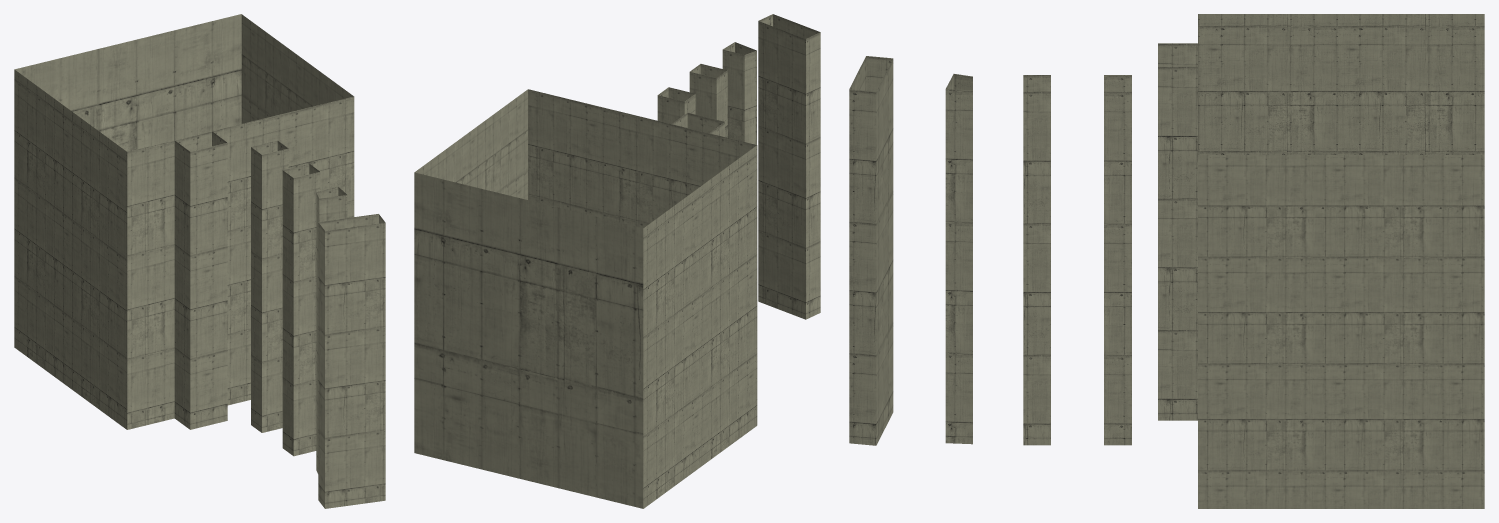
File: SM_NeoLD_00_Block_04.fbx
The picture shows the model from 3 angles, left to right: view 1: azimuth 30°, elevation 25°; view 2: azimuth 150°, elevation 25°; view 3: azimuth 270°, elevation 25°; orthographic projection. The views are drawn at different scales.
Visible parts, largest first — view 1: SM_NeoLD_00_Block_04; view 2: SM_NeoLD_00_Block_04; view 3: SM_NeoLD_00_Block_04.
Part boxes in pixels (box(x1,y1,x2,y2)): SM_NeoLD_00_Block_04: box(14, 14, 385, 508); SM_NeoLD_00_Block_04: box(414, 14, 820, 508); SM_NeoLD_00_Block_04: box(849, 14, 1484, 508).
Bounding box in the file's own units: 4150 × 4858 × 7905.
